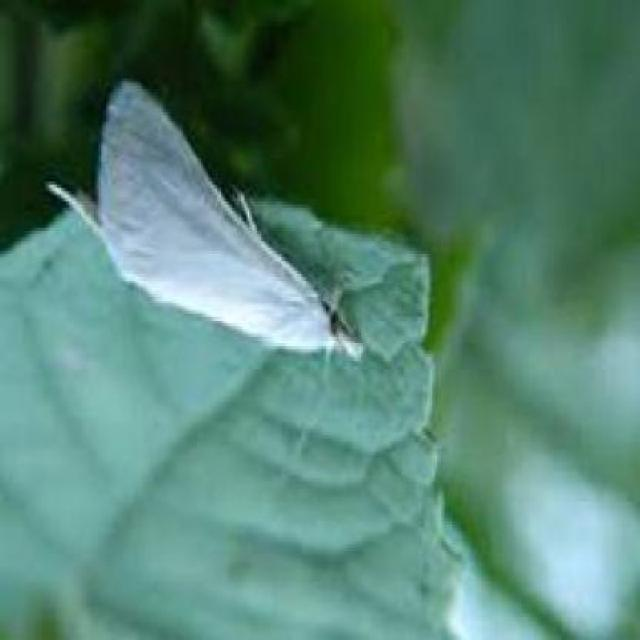stem-borer: (42, 76, 369, 370)
